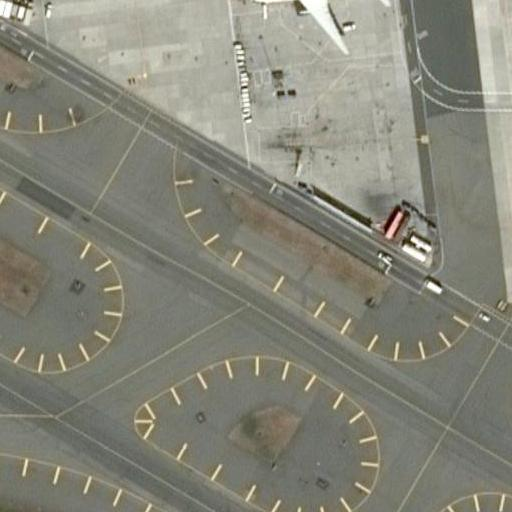Aircraft: (244, 0, 395, 55)
